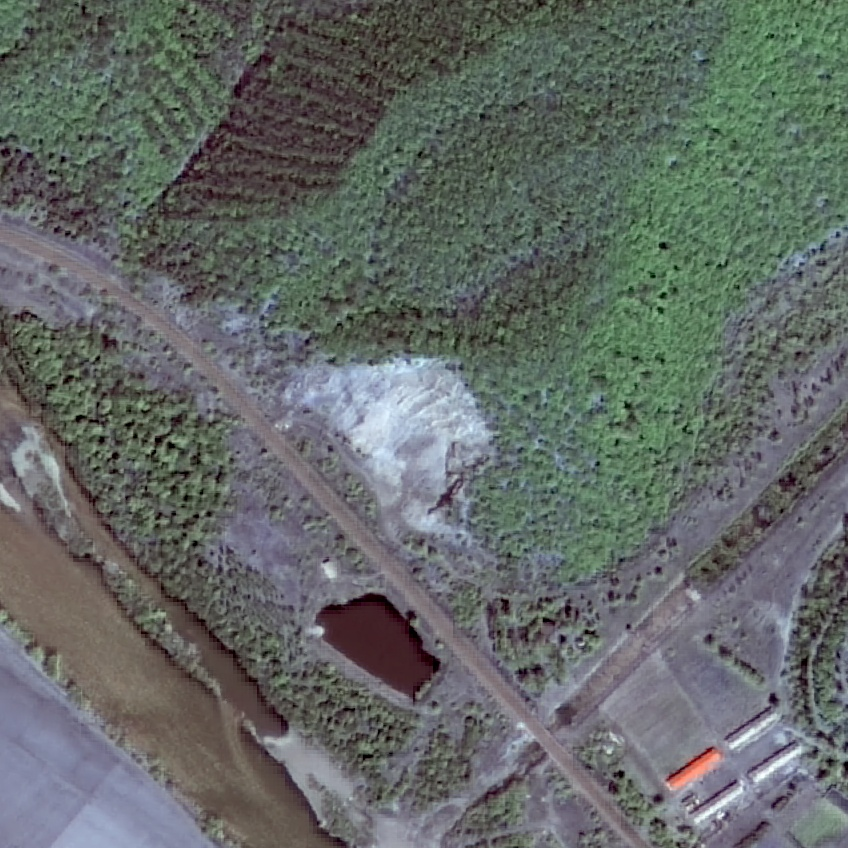slope: (271, 350, 498, 541)
